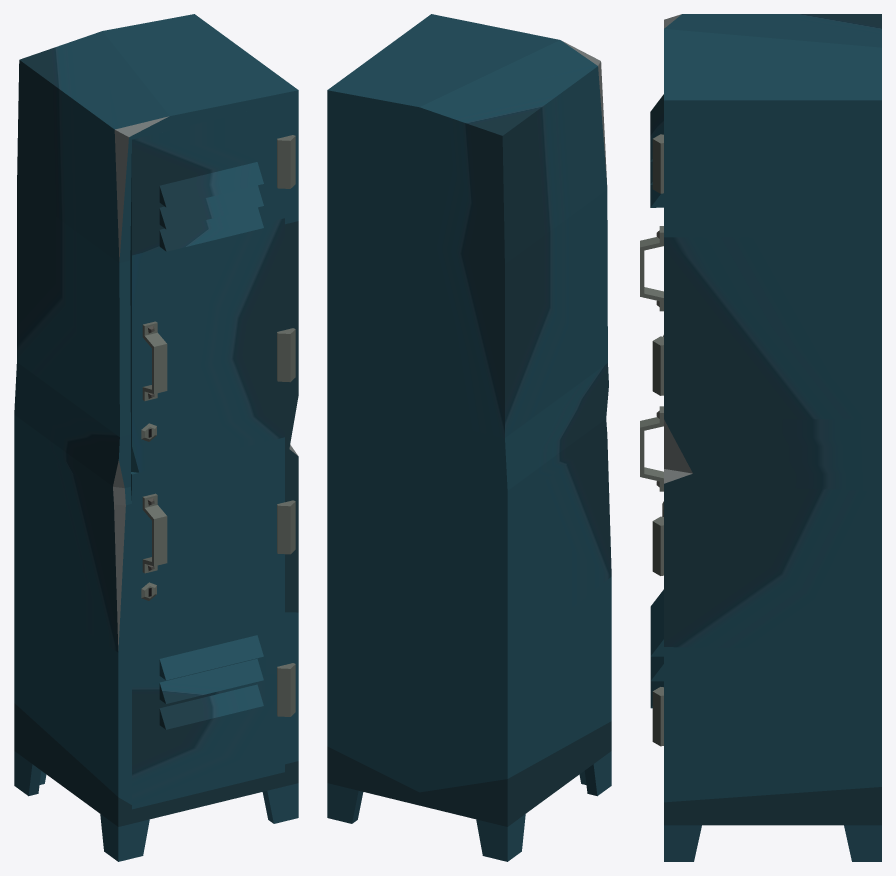
File: SM_Locker_Blue.fbx
3 renders of one model, left to right at view 1: azimuth 30°, elevation 25°; view 2: azimuth 150°, elevation 25°; view 3: azimuth 270°, elevation 25°, orthographic. The views are drawn at different scales.
Visible parts, largest first — view 1: SM_Locker_Blue, SM_Locker_Door_Up_Blue, SM_Locker_Door_Bot_Blue; view 2: SM_Locker_Blue; view 3: SM_Locker_Blue, SM_Locker_Door_Bot_Blue, SM_Locker_Door_Up_Blue.
Boxes of the visible parts, x1,y1,x2,y2 form: SM_Locker_Blue: [14, 14, 298, 861]; SM_Locker_Door_Up_Blue: [130, 102, 295, 472]; SM_Locker_Door_Bot_Blue: [131, 437, 295, 809]; SM_Locker_Blue: [327, 14, 611, 861]; SM_Locker_Blue: [664, 14, 881, 861]; SM_Locker_Door_Bot_Blue: [640, 406, 663, 746]; SM_Locker_Door_Up_Blue: [640, 94, 663, 395].
Bounding box in the file's own units: 54.05 × 210 × 60.01.
